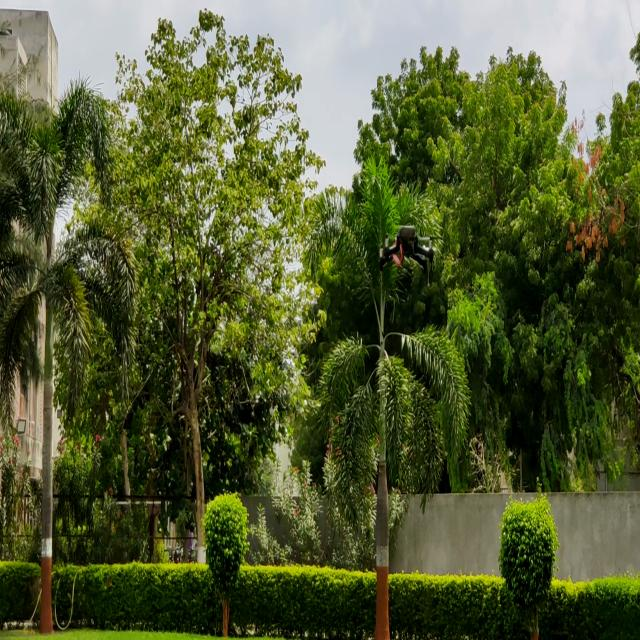drone: (378, 214, 443, 281)
